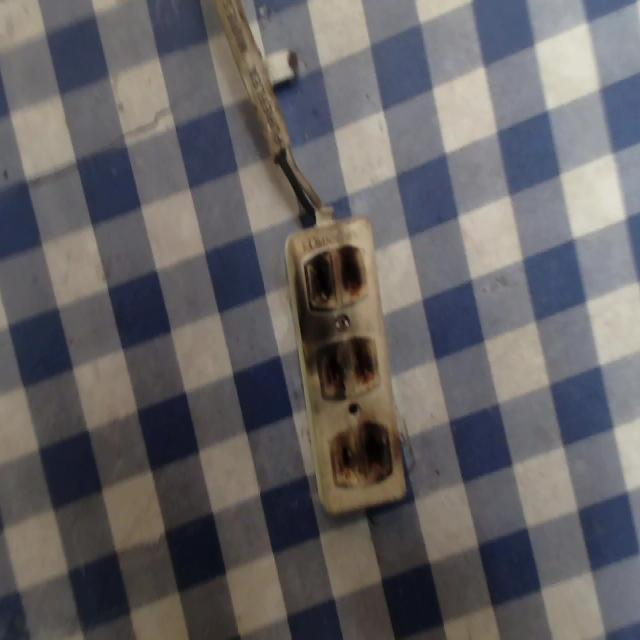-: (327, 417, 393, 491), (301, 238, 367, 310), (316, 333, 380, 396)
